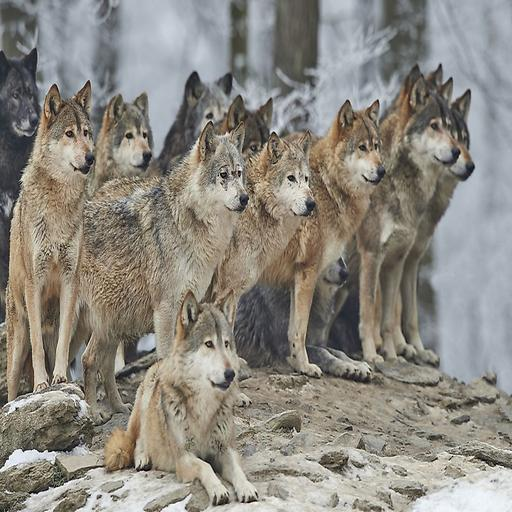Wolf: (181, 81, 466, 388), (56, 129, 318, 393), (27, 68, 242, 382), (262, 86, 475, 402), (255, 66, 463, 382), (40, 124, 252, 410), (189, 99, 386, 405), (85, 92, 275, 373), (96, 292, 269, 510), (157, 230, 380, 390), (47, 91, 158, 408), (0, 75, 98, 413)
